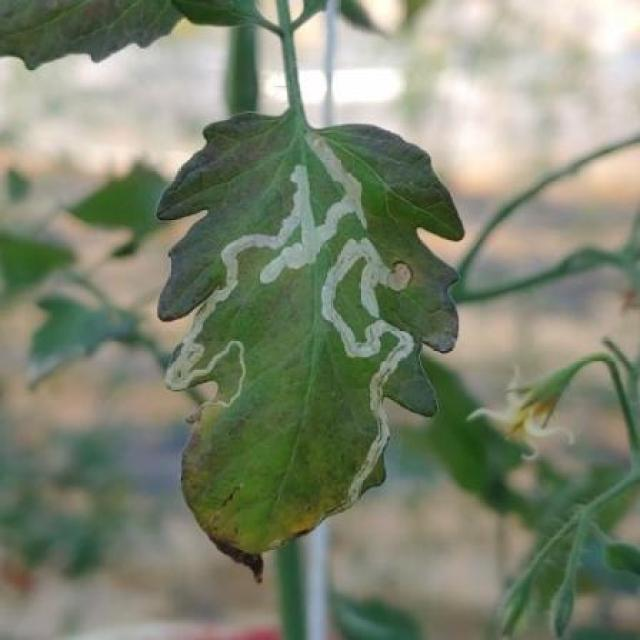Leaf Miner: (153, 106, 468, 588)
